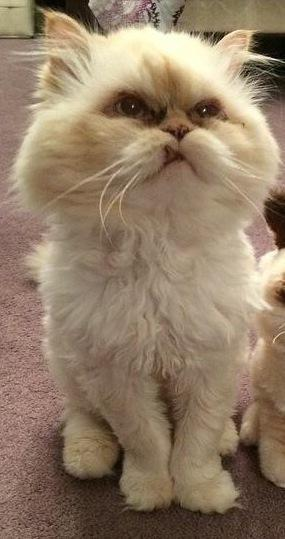persian: (11, 1, 285, 256)
